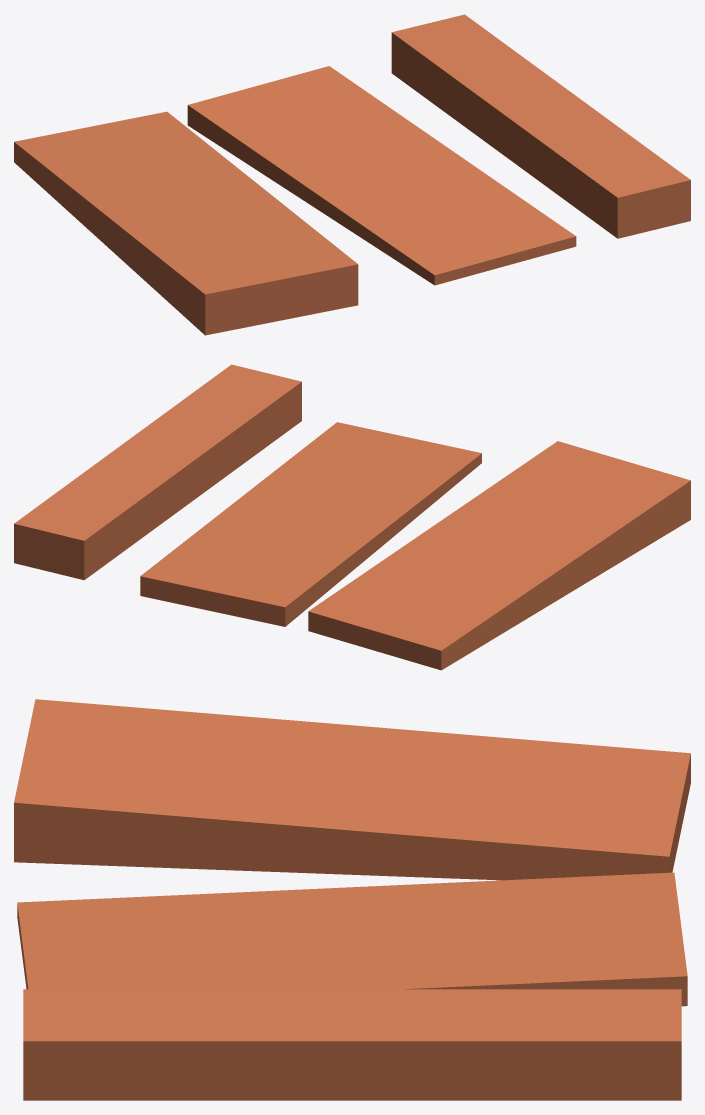
Rendered from path_woodEnd.glb.
The picture shows the model from 3 angles, top to bottom: view 1: azimuth 30°, elevation 25°; view 2: azimuth 150°, elevation 25°; view 3: azimuth 270°, elevation 25°; orthographic projection. The views are drawn at different scales.
Visible parts, largest first — view 1: path_woodEnd; view 2: path_woodEnd; view 3: path_woodEnd.
Boxes of the visible parts, x1=… form: path_woodEnd: x1=14, y1=14, x2=690, y2=335; path_woodEnd: x1=14, y1=364, x2=690, y2=670; path_woodEnd: x1=14, y1=699, x2=690, y2=1100.
Size of the model in its own units: 0.6148 by 0.05 by 0.5144.
